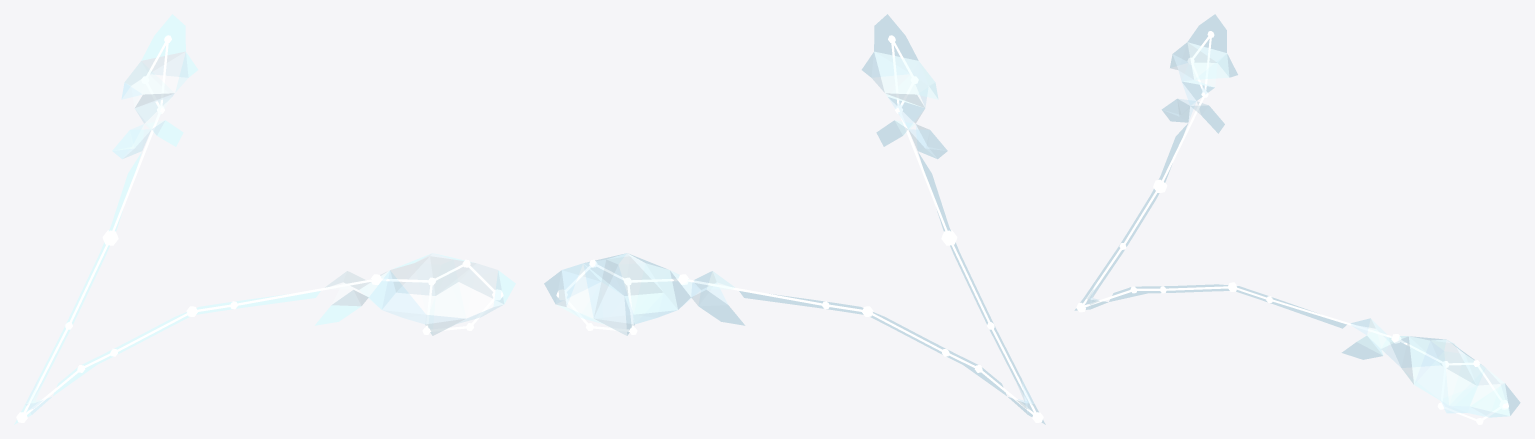
File: 12_Pisces.glb
3 views of the same model, side by side, from view 1: azimuth 30°, elevation 25°; view 2: azimuth 150°, elevation 25°; view 3: azimuth 330°, elevation 25° (orthographic). The views are drawn at different scales.
Parts seen in each view (by area): view 1: Pisces; view 2: Pisces; view 3: Pisces.
Part boxes in pixels (x1,y1,x2,y2): Pisces: [14, 14, 515, 424]; Pisces: [544, 14, 1045, 424]; Pisces: [1074, 14, 1520, 424].
Size of the model in its own units: 1.73 by 1.28 by 0.2071.
